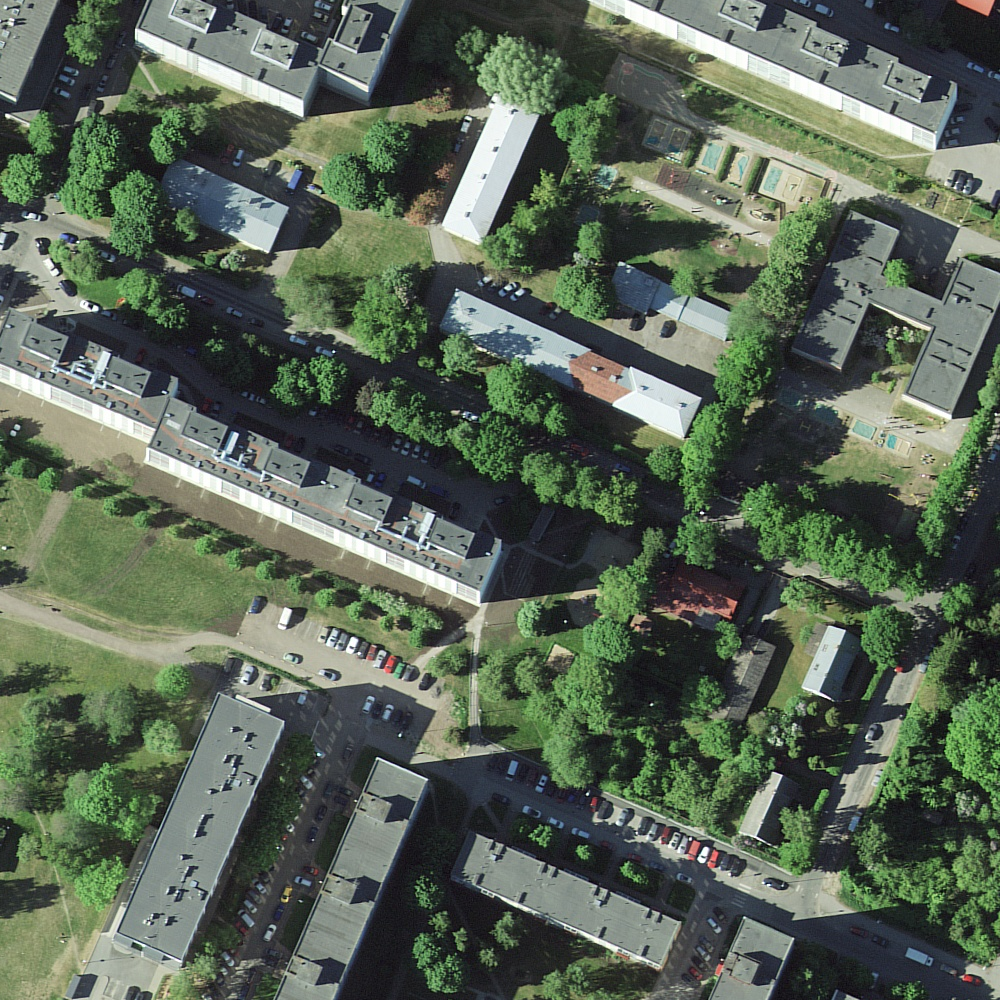building: (1, 306, 504, 592), (115, 694, 286, 959), (628, 1, 957, 135), (791, 213, 999, 416), (440, 289, 702, 438), (278, 759, 430, 999), (451, 831, 683, 968), (136, 1, 408, 101), (441, 94, 545, 244), (155, 157, 291, 253), (709, 918, 796, 1000), (646, 560, 746, 623), (710, 633, 776, 723), (1, 1, 59, 101), (649, 282, 736, 341), (739, 770, 802, 849), (801, 627, 863, 699), (607, 262, 661, 314), (956, 1, 995, 16)
